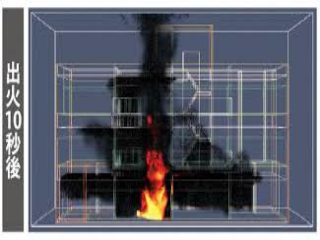fire: (134, 146, 175, 217)
